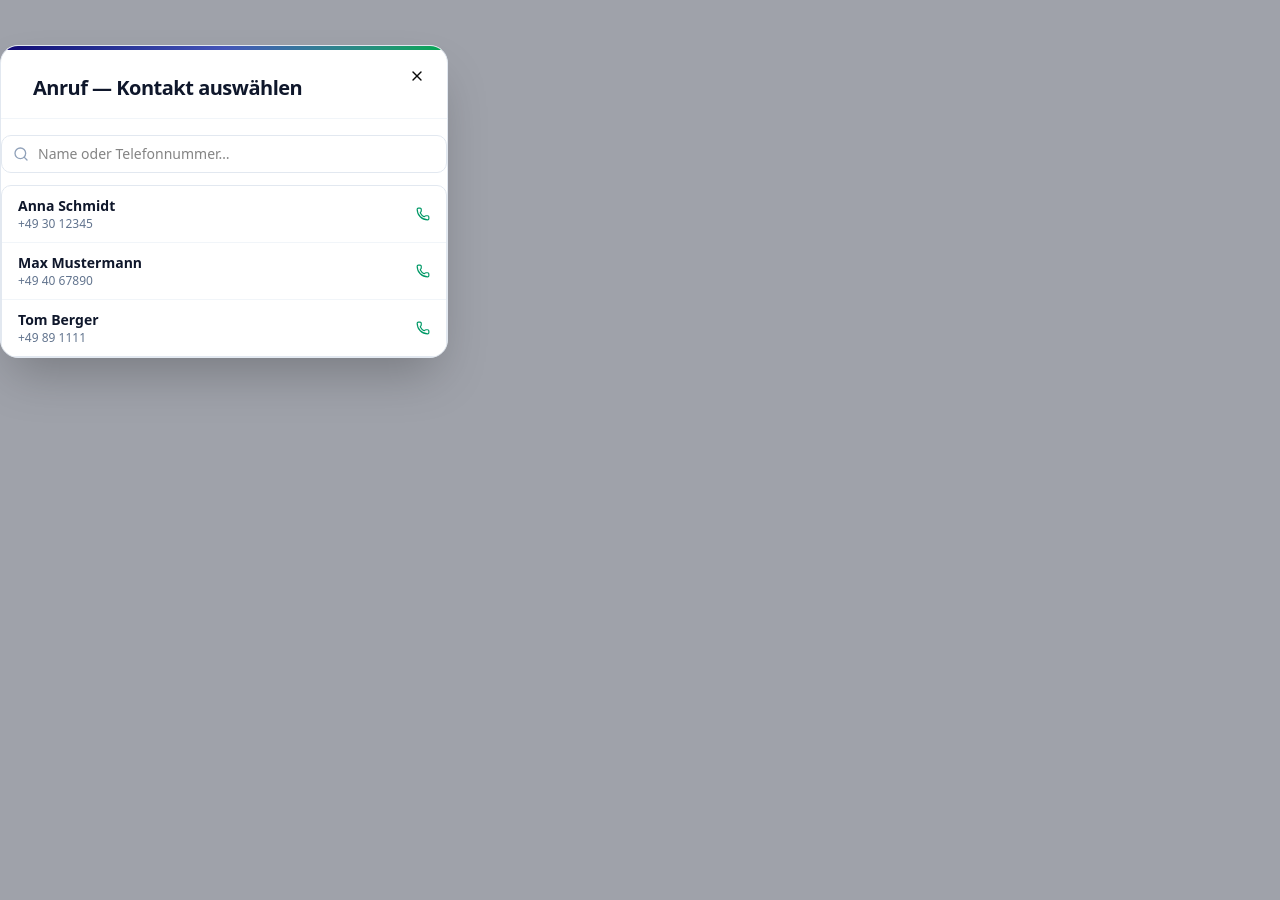
Test: ContactPickerDialog › renders empty state when no phone-bearing contacts match
In the field with test id "contact-picker-input": (224, 154) [1, 135, 447, 173], type "xyz123"
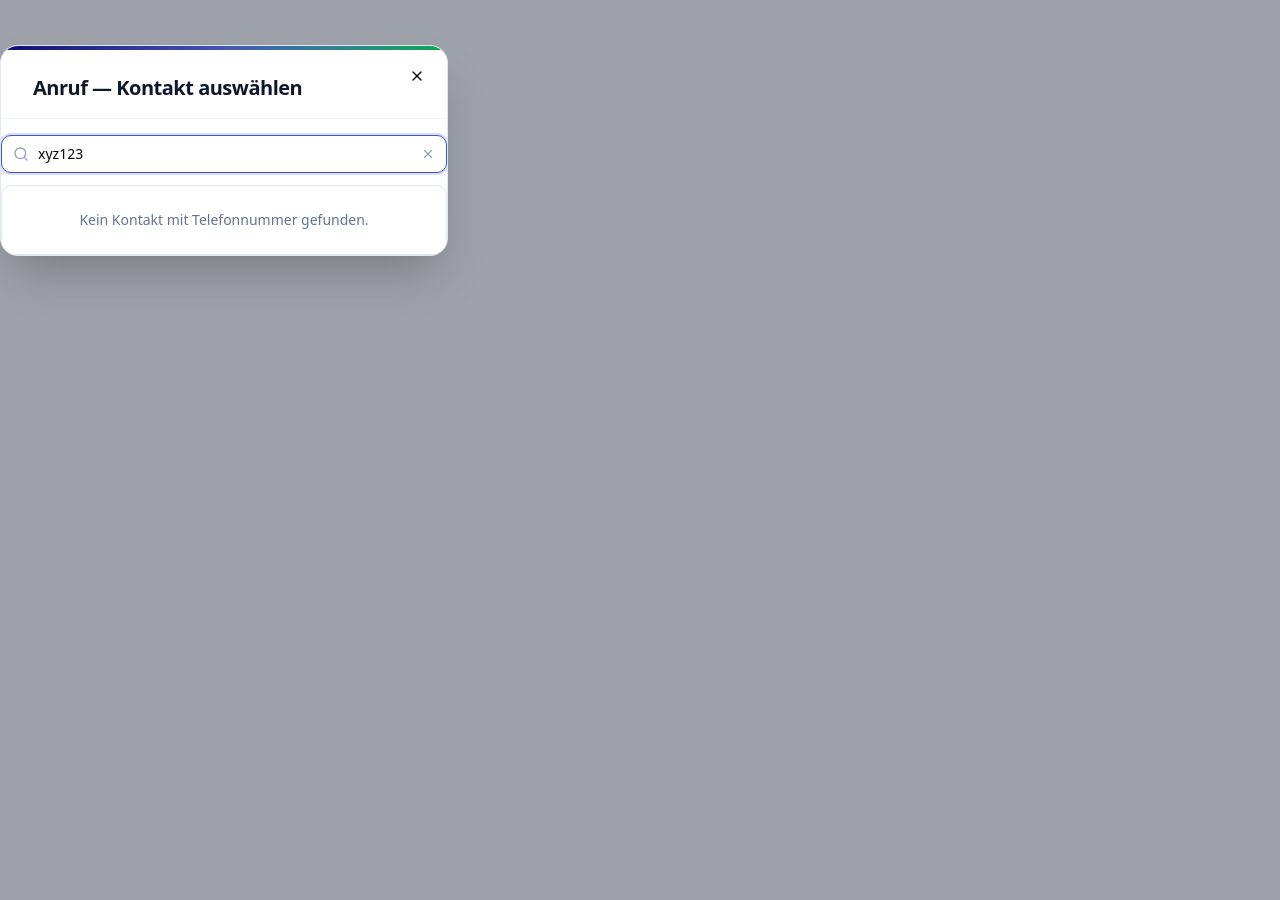
Now the text "Kein Kontakt mit Telefonnummer gefunden." is shown, box [79, 210, 369, 229]
